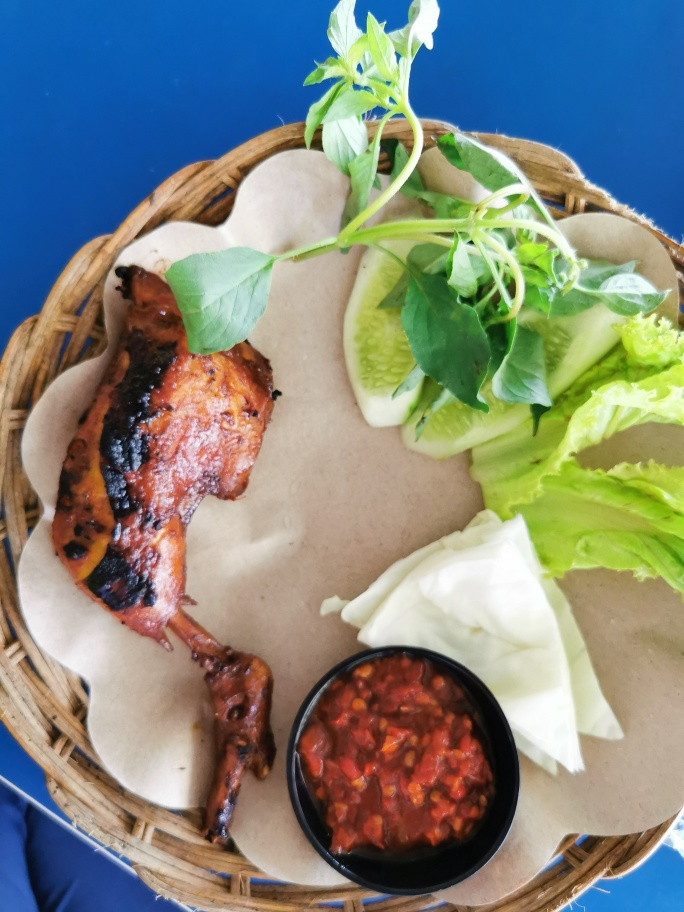ayam bakar: (43, 266, 311, 827)
